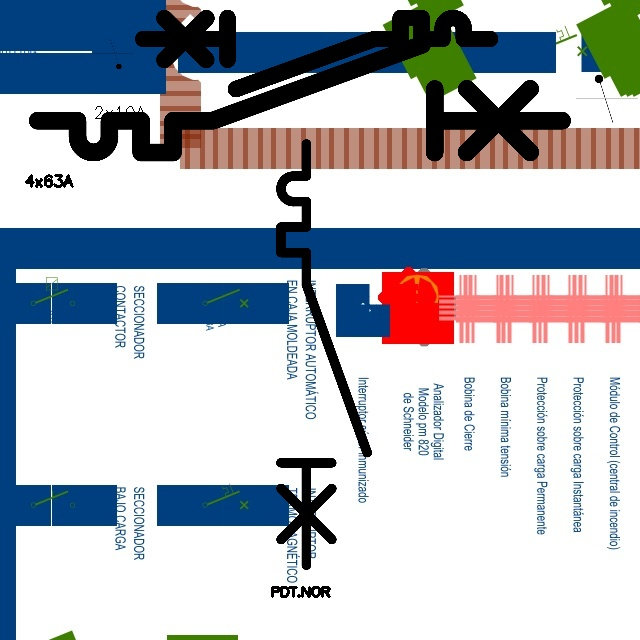interruptor_termomagnetico: (24, 31, 575, 166), (270, 133, 378, 576), (134, 9, 498, 98)
